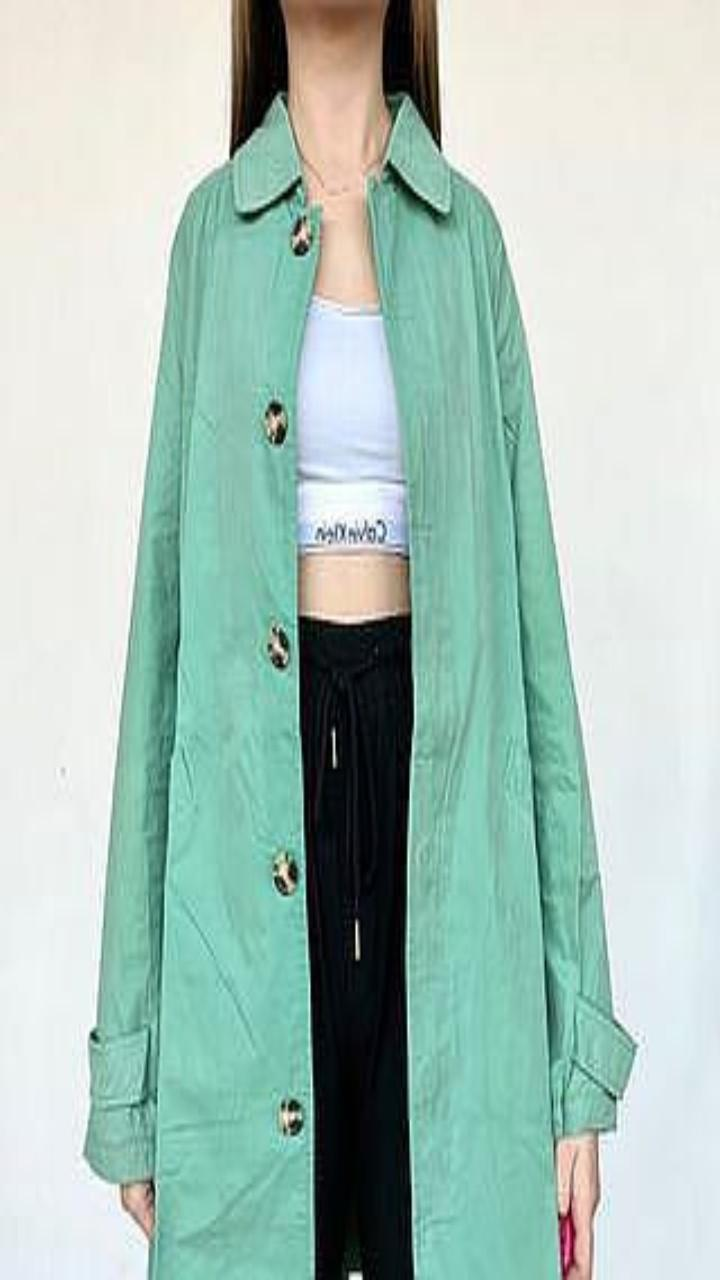Coat: (84, 91, 321, 1279)
Jeans: (299, 613, 412, 1279)
